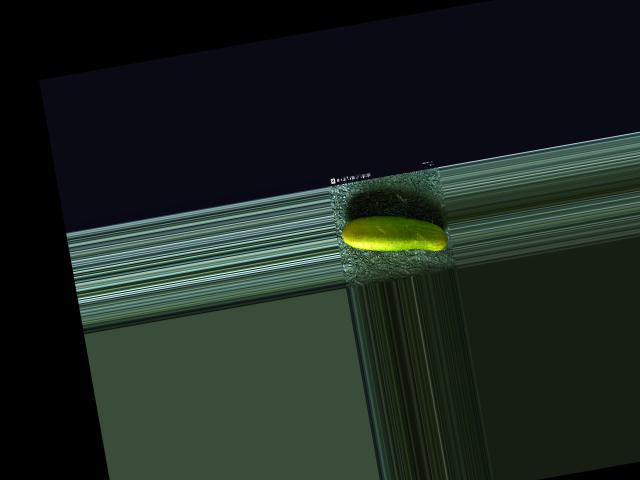cucumber: (339, 203, 449, 266)
